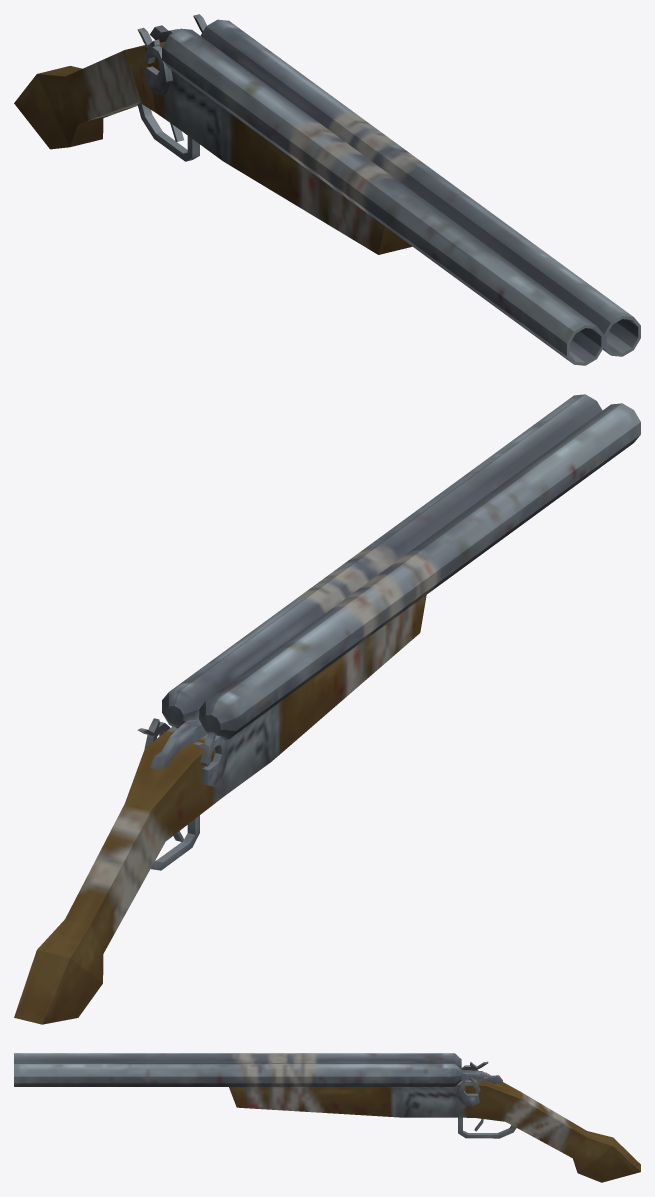
File: classic shotgun.fbx
3 renders of one model, top to bottom at view 1: azimuth 30°, elevation 25°; view 2: azimuth 150°, elevation 25°; view 3: azimuth 270°, elevation 25°, orthographic. The views are drawn at different scales.
Visible parts, largest first — view 1: Cylinder; view 2: Cylinder; view 3: Cylinder.
Part boxes in pixels (<box>): Cylinder: <box>14,14,640,365</box>; Cylinder: <box>14,394,640,1024</box>; Cylinder: <box>14,1053,640,1182</box>.
Size of the model in its own units: 380 by 1080 by 5111.
1 material, 1 textured.
